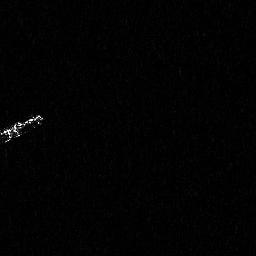ship: (1, 112, 47, 150)
